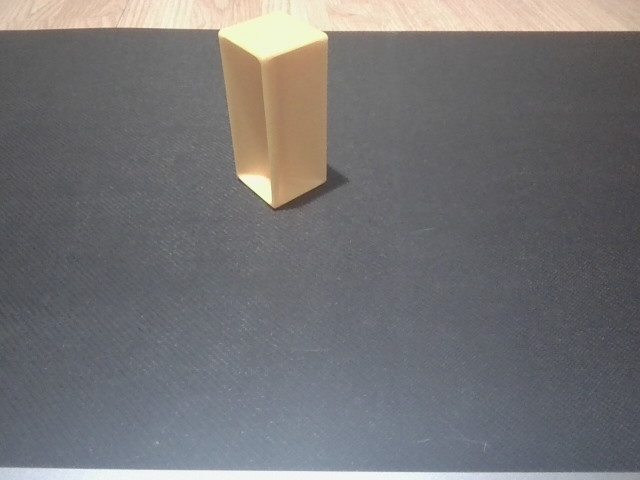YellowSample: (212, 12, 334, 210)
